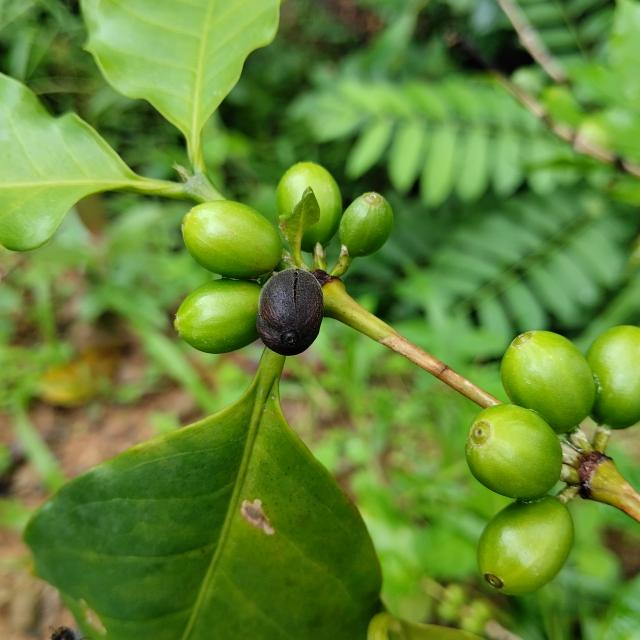green: (501, 331, 596, 434), (478, 496, 575, 596), (466, 405, 563, 500), (181, 200, 282, 279), (174, 278, 261, 354), (276, 162, 342, 252), (588, 326, 640, 430), (339, 192, 394, 258)
red: (256, 269, 324, 356)
